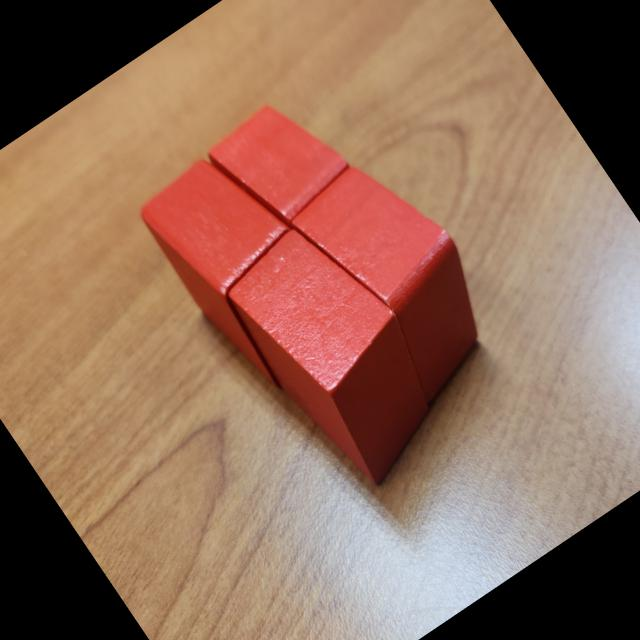red: (210, 207, 469, 500), (280, 139, 523, 414), (130, 134, 369, 403), (201, 84, 360, 243)
